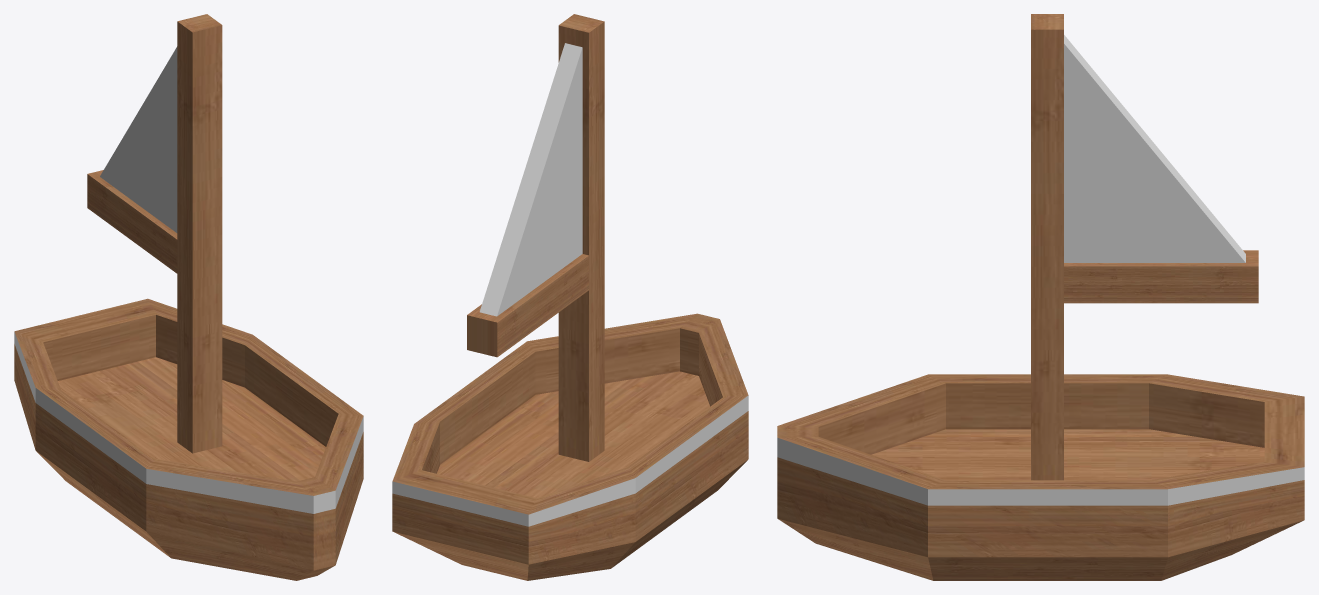
File: Boat.fbx
The picture shows the model from 3 angles, left to right: view 1: azimuth 30°, elevation 25°; view 2: azimuth 150°, elevation 25°; view 3: azimuth 270°, elevation 25°; orthographic projection. The views are drawn at different scales.
Visible parts, largest first — view 1: Boat; view 2: Boat; view 3: Boat.
Boxes of the visible parts, x1,y1,x2,y2 form: Boat: (14, 14, 363, 580); Boat: (392, 14, 748, 580); Boat: (777, 14, 1304, 580).
Size of the model in its own units: 101 by 211 by 195.
